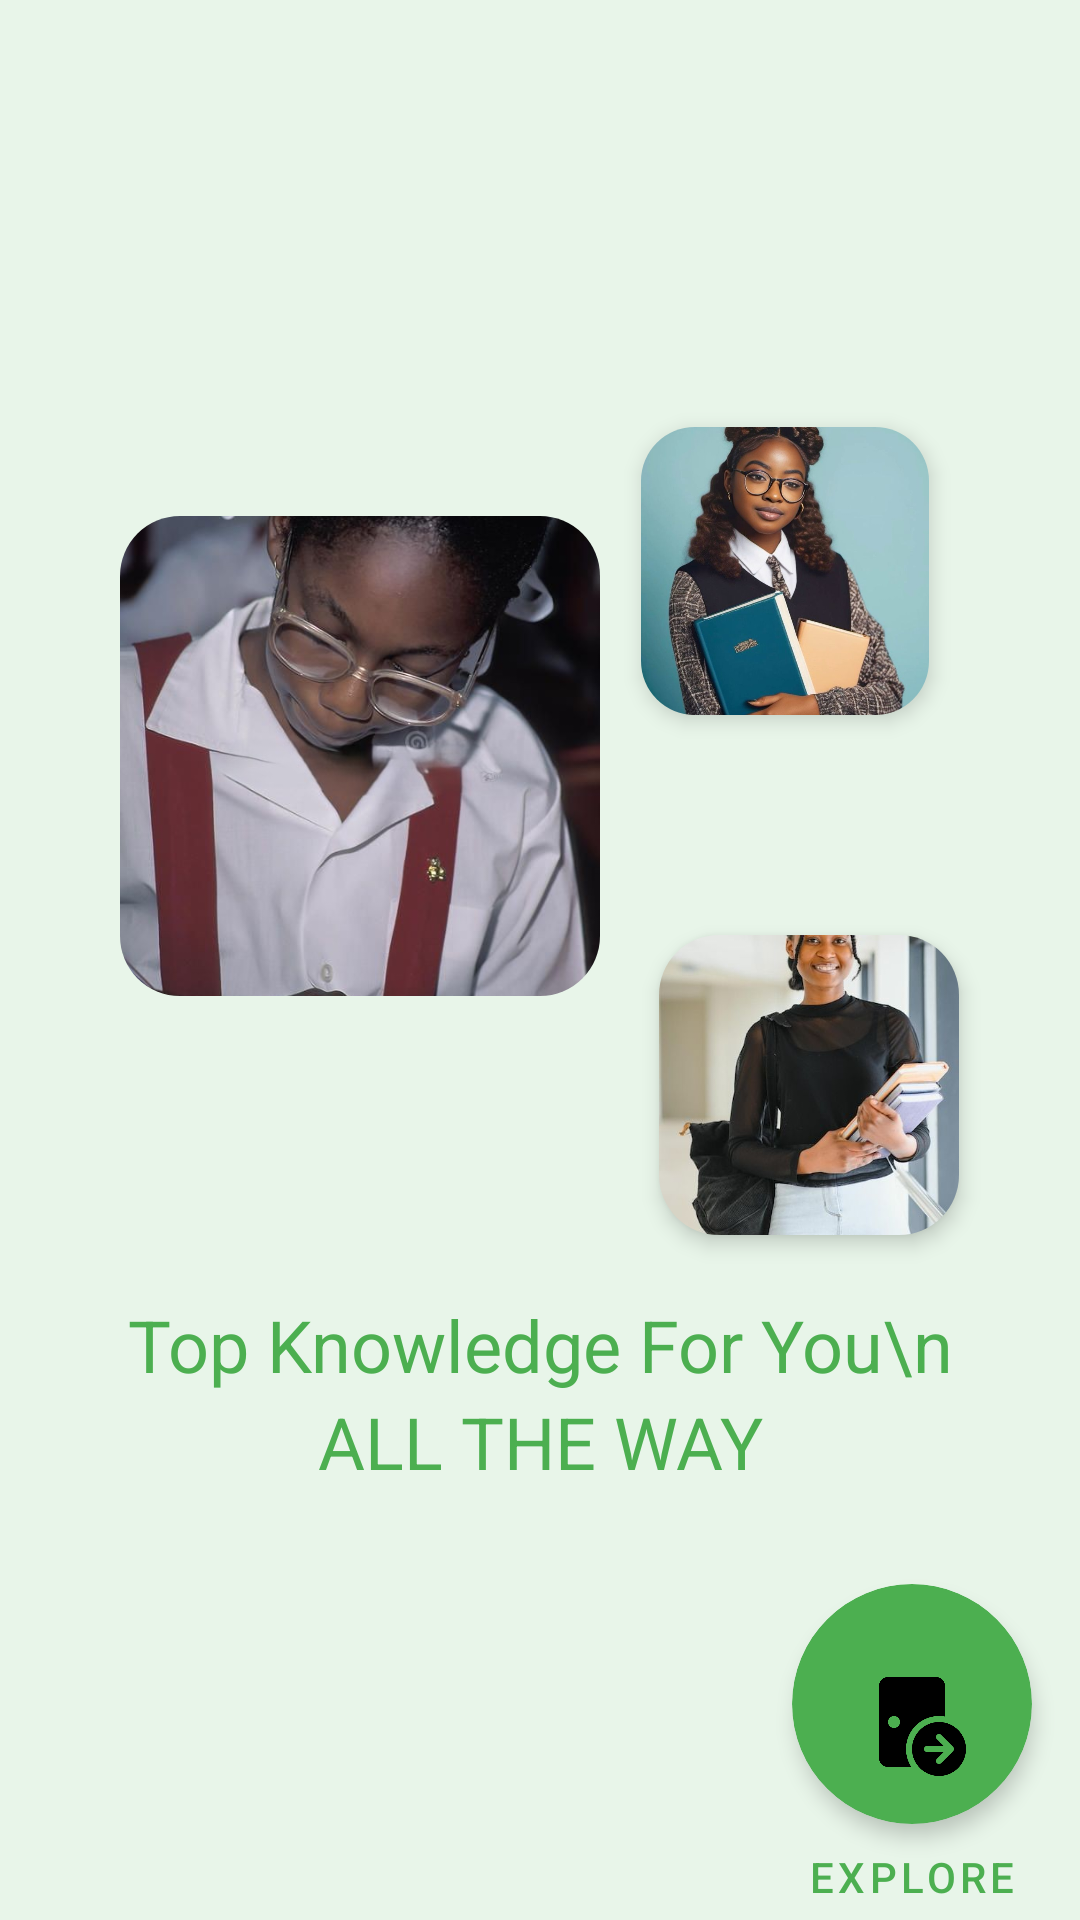

Screen size 1080w x 1920h. Icon name, then its center in pixels as [x,y]:
door: [922,1726]
